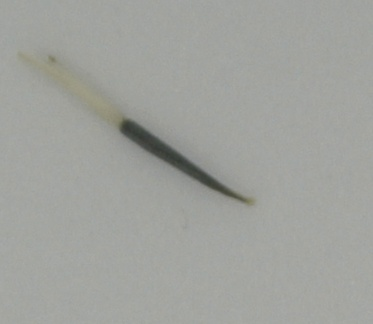เมล็ดดีเรียวยาว: (18, 50, 258, 205)
